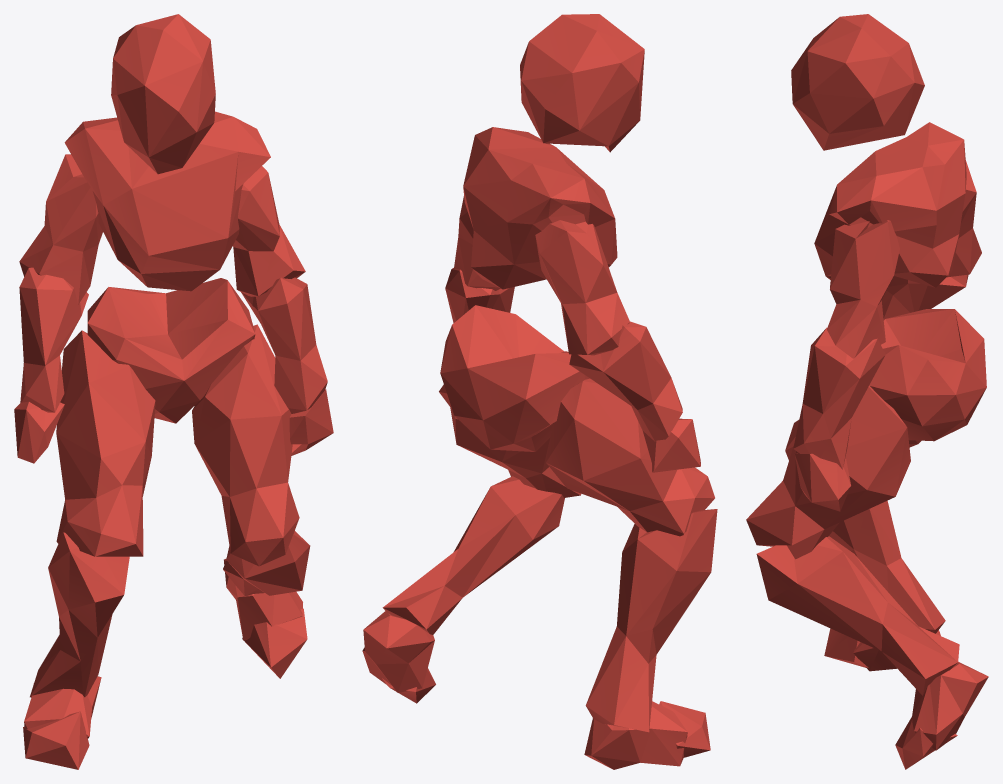
Rendered from 2dancer0180.obj.
3 renders of one model, left to right at view 1: azimuth 30°, elevation 25°; view 2: azimuth 150°, elevation 25°; view 3: azimuth 270°, elevation 25°, orthographic. The views are drawn at different scales.
Visible parts, largest first — view 1: Beta_Surface; view 2: Beta_Surface; view 3: Beta_Surface.
Boxes of the visible parts, bbox=[...] form: Beta_Surface: bbox=[14, 14, 333, 769]; Beta_Surface: bbox=[362, 14, 717, 769]; Beta_Surface: bbox=[746, 14, 988, 769].
Bounding box in the file's own units: 0.7738 × 1.69 × 0.5375.
